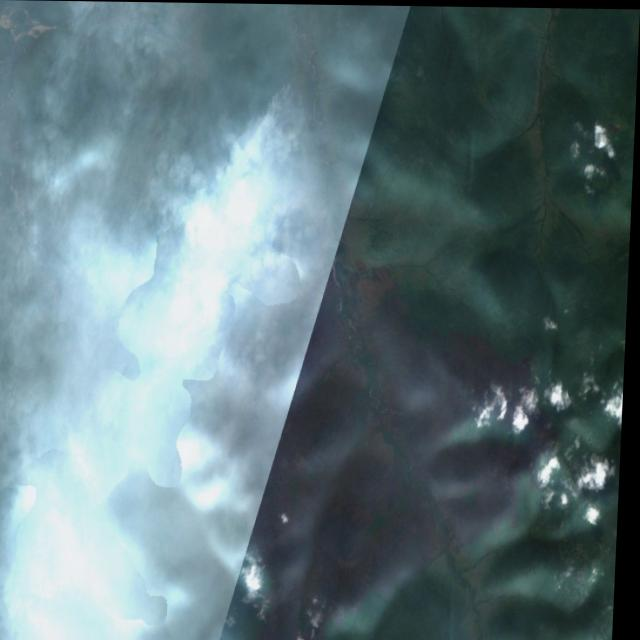fire: (182, 73, 319, 312)
